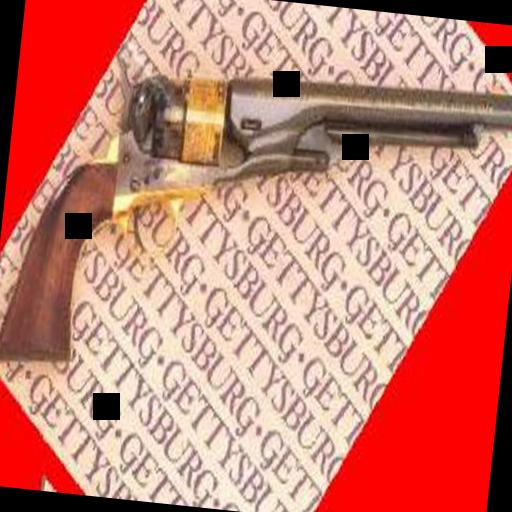Handgun: (0, 21, 512, 411)
